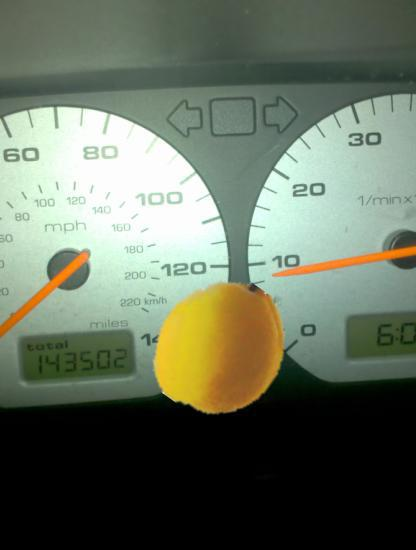Peach: (150, 277, 292, 419)
